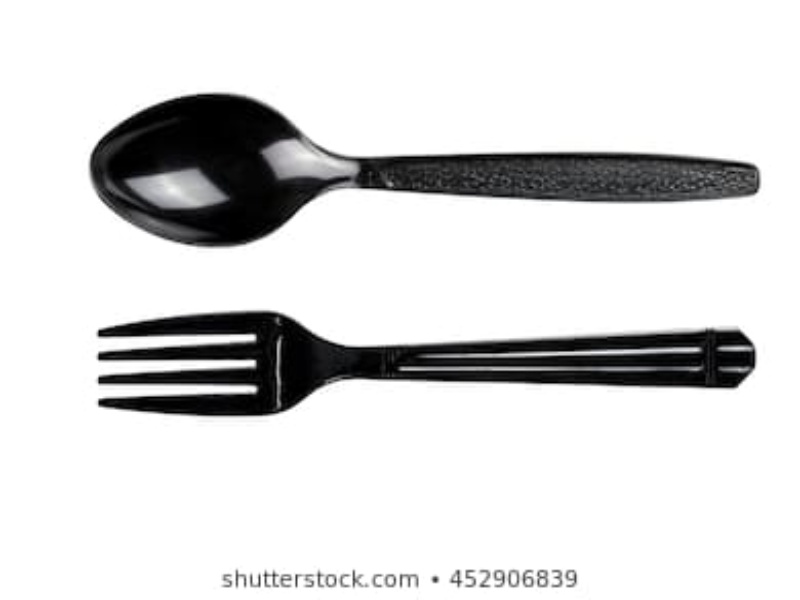plastic-silverware: (79, 93, 765, 252), (93, 308, 758, 421)
